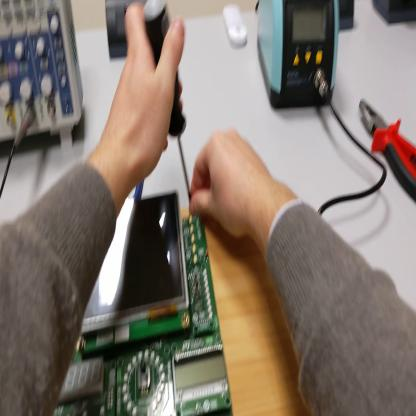hand: (105, 2, 187, 182), (189, 126, 273, 245)
low voltage board: (52, 194, 234, 415)
oscilloscope: (1, 1, 85, 153)
pliers: (359, 96, 416, 206)
screwdriver-: (145, 4, 194, 205)
socket: (374, 3, 416, 24), (340, 3, 356, 34)
welder station: (258, 2, 341, 111)
working area: (180, 207, 307, 415)
